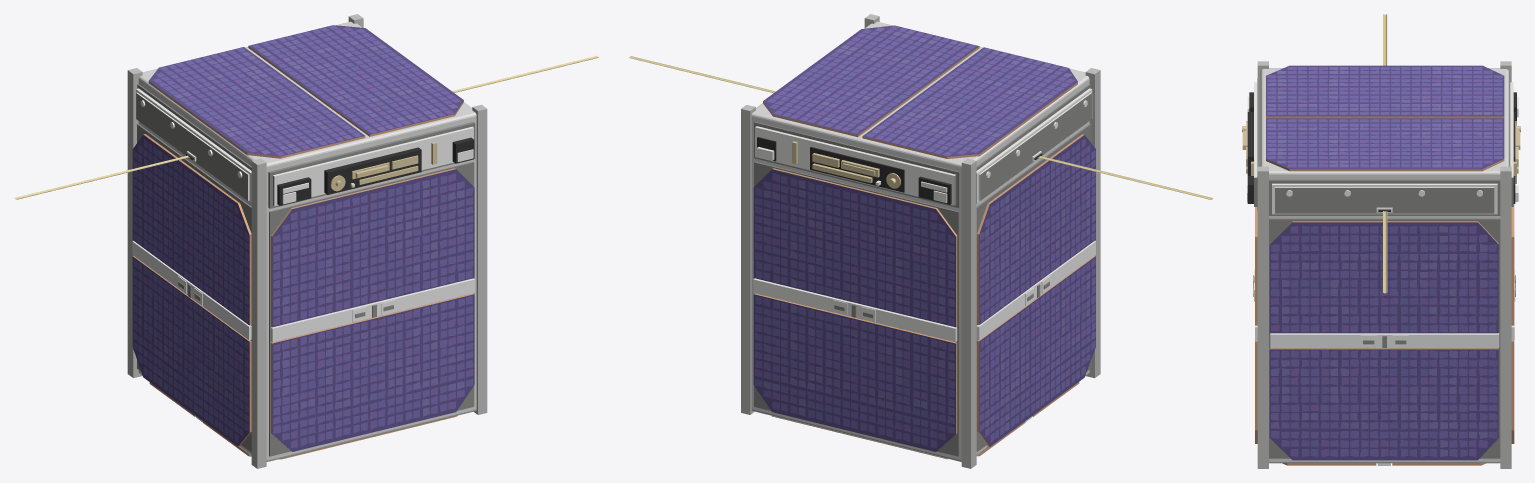
The model's file is cubesat.glb.
3 renders of one model, left to right at view 1: azimuth 30°, elevation 25°; view 2: azimuth 150°, elevation 25°; view 3: azimuth 270°, elevation 25°, orthographic. The views are drawn at different scales.
Visible parts, largest first — view 1: Layer_0; view 2: Layer_0; view 3: Layer_0.
Boxes of the visible parts, x1,y1,x2,y2 form: Layer_0: [14, 14, 598, 468]; Layer_0: [629, 14, 1213, 468]; Layer_0: [1242, 14, 1520, 468].
Bounding box in the file's own units: 5.19 × 2.6 × 2.2.
Materials: 2 (2 with a texture image).
